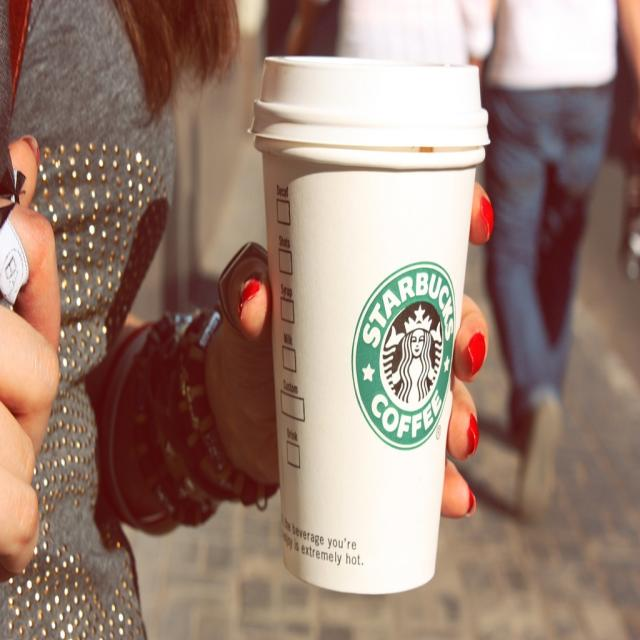starbucks: (353, 261, 458, 450)
